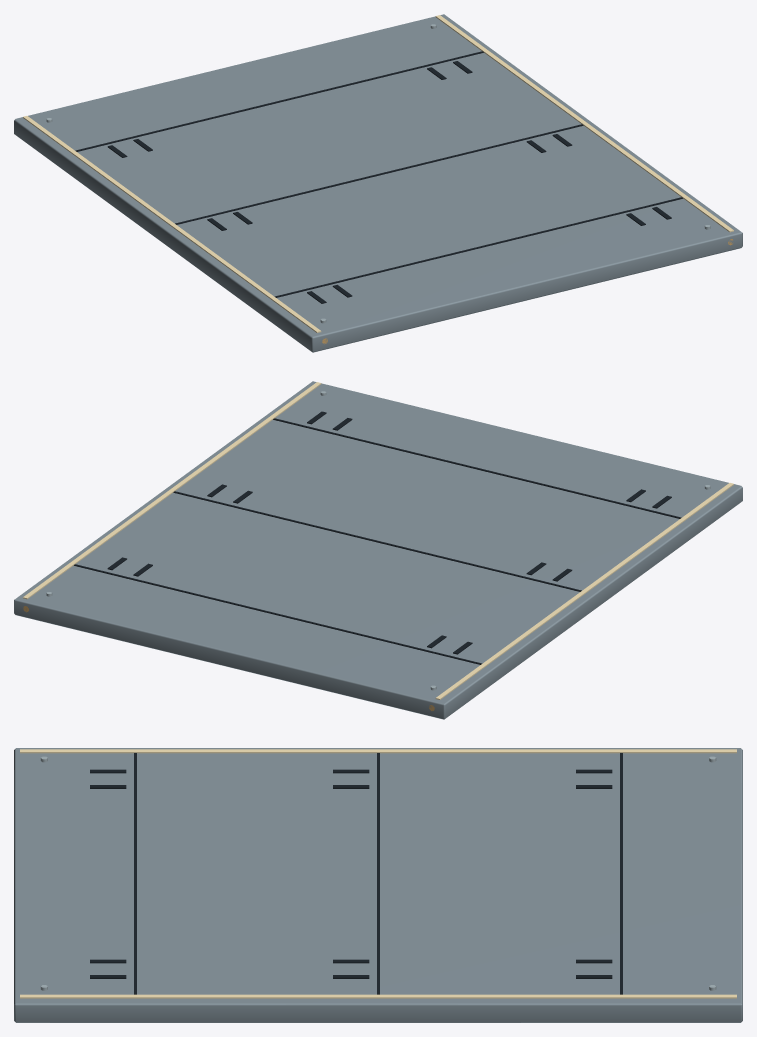
Rendered from nyanisyarud-camera-road-straight.glb.
The picture shows the model from 3 angles, top to bottom: view 1: azimuth 30°, elevation 25°; view 2: azimuth 150°, elevation 25°; view 3: azimuth 270°, elevation 25°; orthographic projection. The views are drawn at different scales.
Visible parts, largest first — view 1: RoadSlab, road-straight_black, road-straight_cream; view 2: RoadSlab, road-straight_black, road-straight_cream; view 3: RoadSlab, road-straight_cream, road-straight_black.
Part boxes in pixels (x1,y1,x2,y2): RoadSlab: [14, 14, 742, 352]; road-straight_black: [75, 51, 682, 303]; road-straight_cream: [23, 15, 733, 332]; RoadSlab: [14, 381, 742, 719]; road-straight_black: [74, 411, 681, 664]; road-straight_cream: [23, 382, 733, 699]; RoadSlab: [14, 748, 742, 1022]; road-straight_cream: [20, 749, 736, 998]; road-straight_black: [90, 753, 622, 994].
Size of the model in its own units: 10 by 0.4225 by 12.
